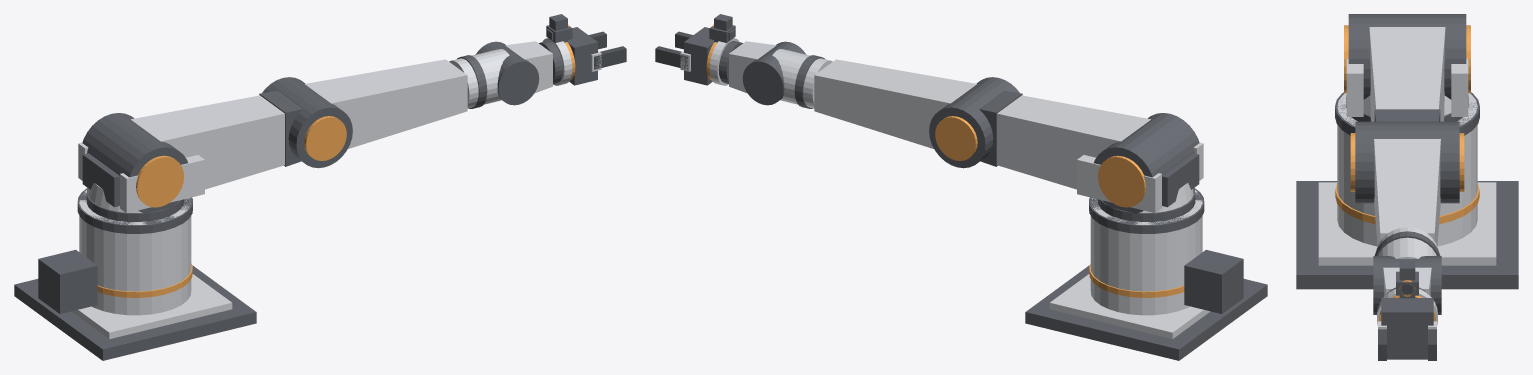
The model's file is six_axis_arm.glb.
3 renders of one model, left to right at view 1: azimuth 30°, elevation 25°; view 2: azimuth 150°, elevation 25°; view 3: azimuth 270°, elevation 25°, orthographic. The views are drawn at different scales.
Visible parts, largest first — view 1: base_link, J2_Shoulder, J3_Elbow, J1_Yaw, J5_Pitch, J6_Roll, J4_Roll, Finger_L; view 2: base_link, J2_Shoulder, J3_Elbow, J1_Yaw, J5_Pitch, J6_Roll, J4_Roll, Finger_R; view 3: base_link, J2_Shoulder, J3_Elbow, J6_Roll, J1_Yaw, J5_Pitch, J4_Roll, Camera, Finger_L, Finger_R.
Boxes of the visible parts, <box> form: base_link: <box>14,188,256,360</box>; J2_Shoulder: <box>82,91,302,213</box>; J3_Elbow: <box>262,59,467,168</box>; J1_Yaw: <box>78,142,204,221</box>; J5_Pitch: <box>475,41,552,105</box>; J6_Roll: <box>539,14,597,85</box>; J4_Roll: <box>449,49,509,108</box>; Finger_L: <box>591,46,626,71</box>; base_link: <box>1025,188,1267,360</box>; J2_Shoulder: <box>979,91,1199,213</box>; J3_Elbow: <box>814,59,1019,168</box>; J1_Yaw: <box>1077,142,1203,221</box>; J5_Pitch: <box>729,41,806,105</box>; J6_Roll: <box>684,14,742,85</box>; J4_Roll: <box>772,49,832,108</box>; Finger_R: <box>655,46,690,71</box>; base_link: <box>1296,92,1518,289</box>; J2_Shoulder: <box>1344,14,1470,121</box>; J3_Elbow: <box>1350,121,1464,245</box>; J6_Roll: <box>1377,261,1437,359</box>; J1_Yaw: <box>1346,59,1468,121</box>; J5_Pitch: <box>1373,256,1441,314</box>; J4_Roll: <box>1374,227,1440,258</box>; Camera: <box>1396,271,1418,296</box>; Finger_L: <box>1378,321,1386,360</box>; Finger_R: <box>1428,321,1436,360</box>.
Size of the model in its own units: 0.722 by 0.23 by 0.196.
